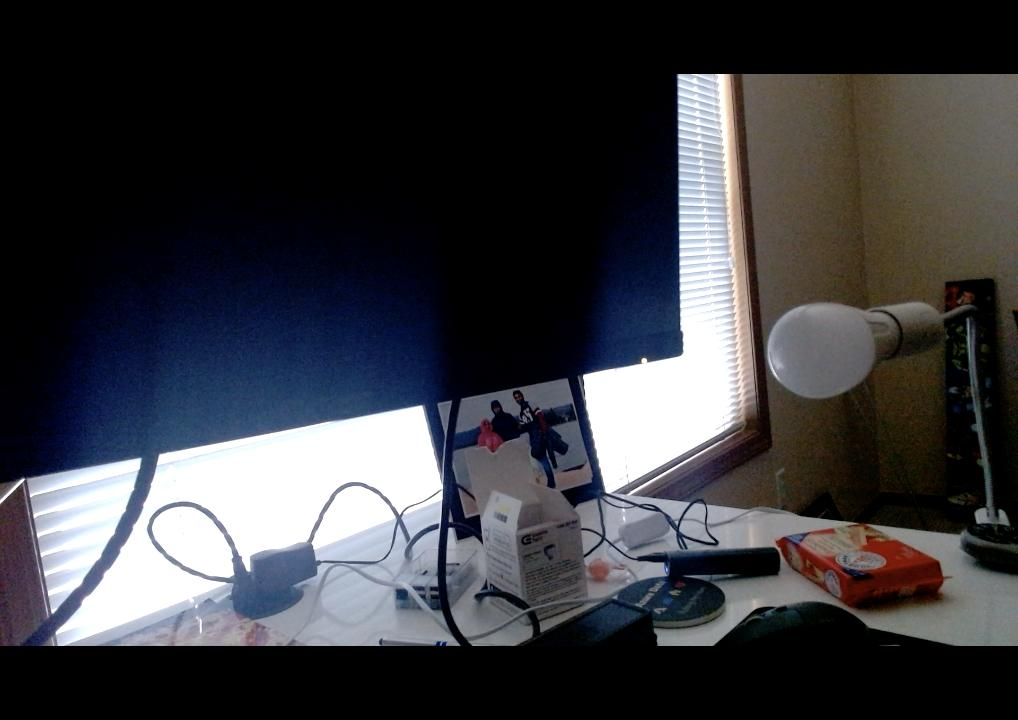Fan: (766, 301, 898, 398)
